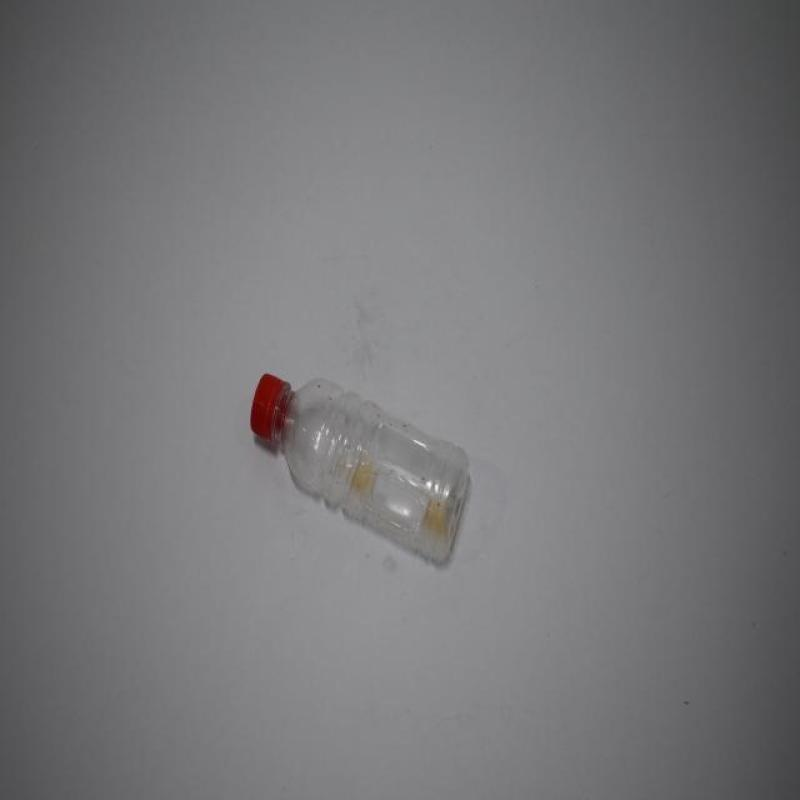botella: (251, 370, 470, 564)
